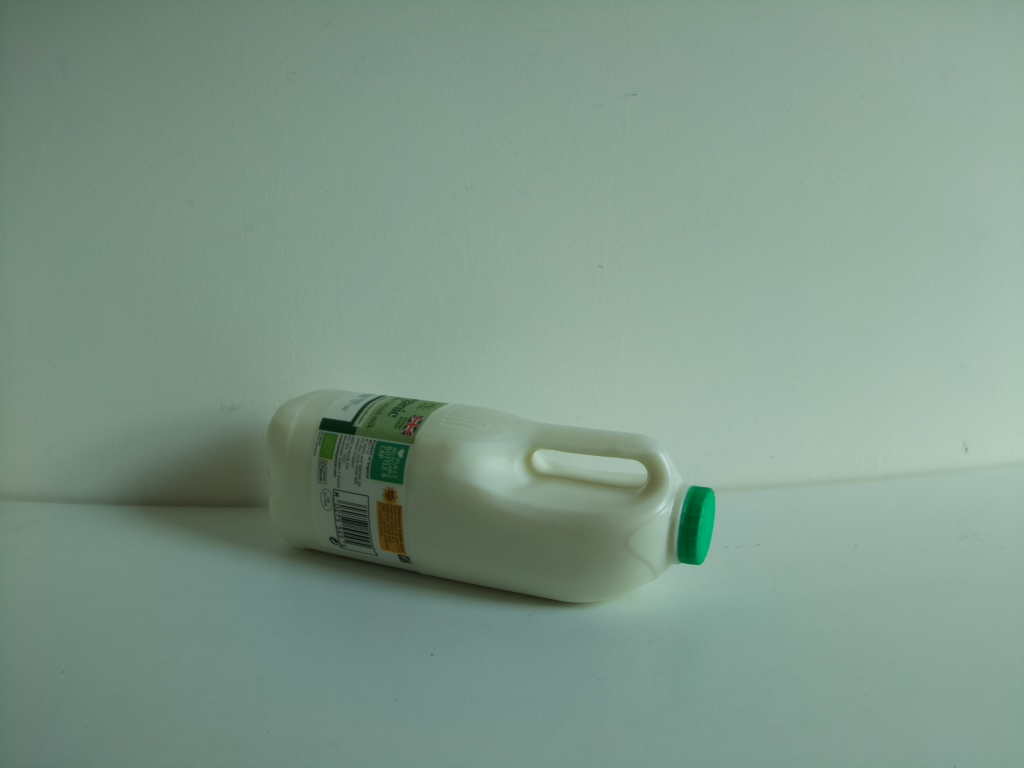milk: (256, 380, 719, 612)
